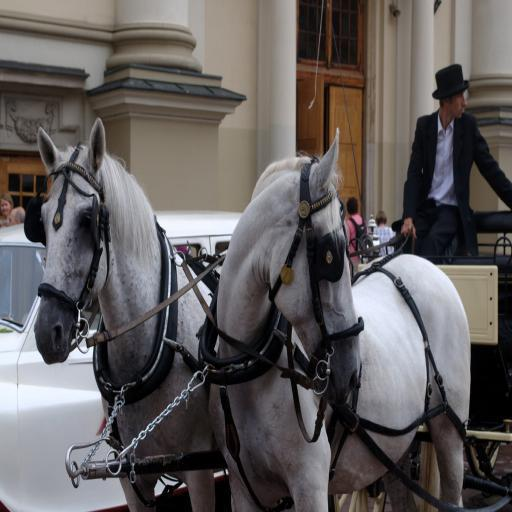horse: (207, 128, 469, 512), (32, 114, 224, 512)
